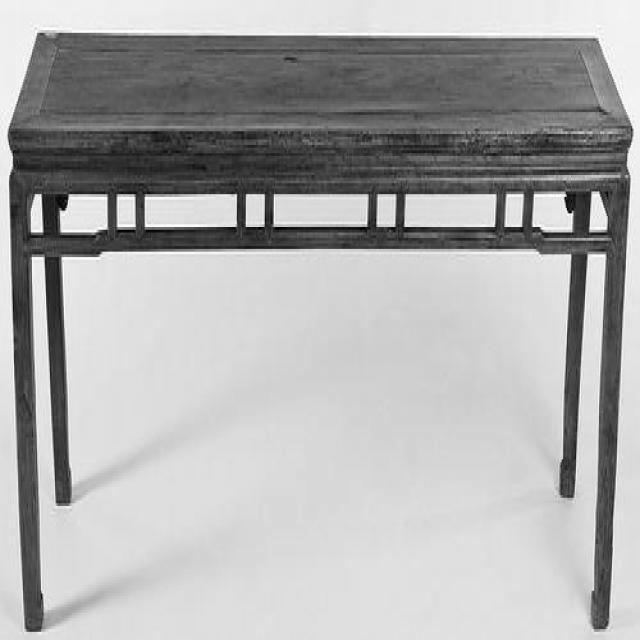table: (8, 31, 632, 634)
